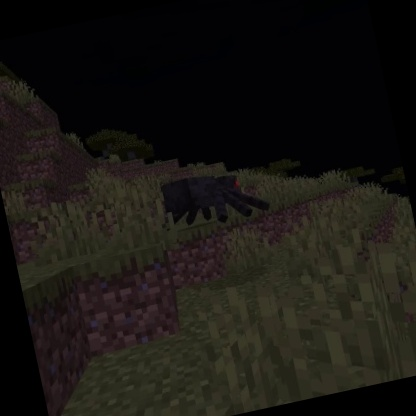spider: (155, 158, 275, 239)
